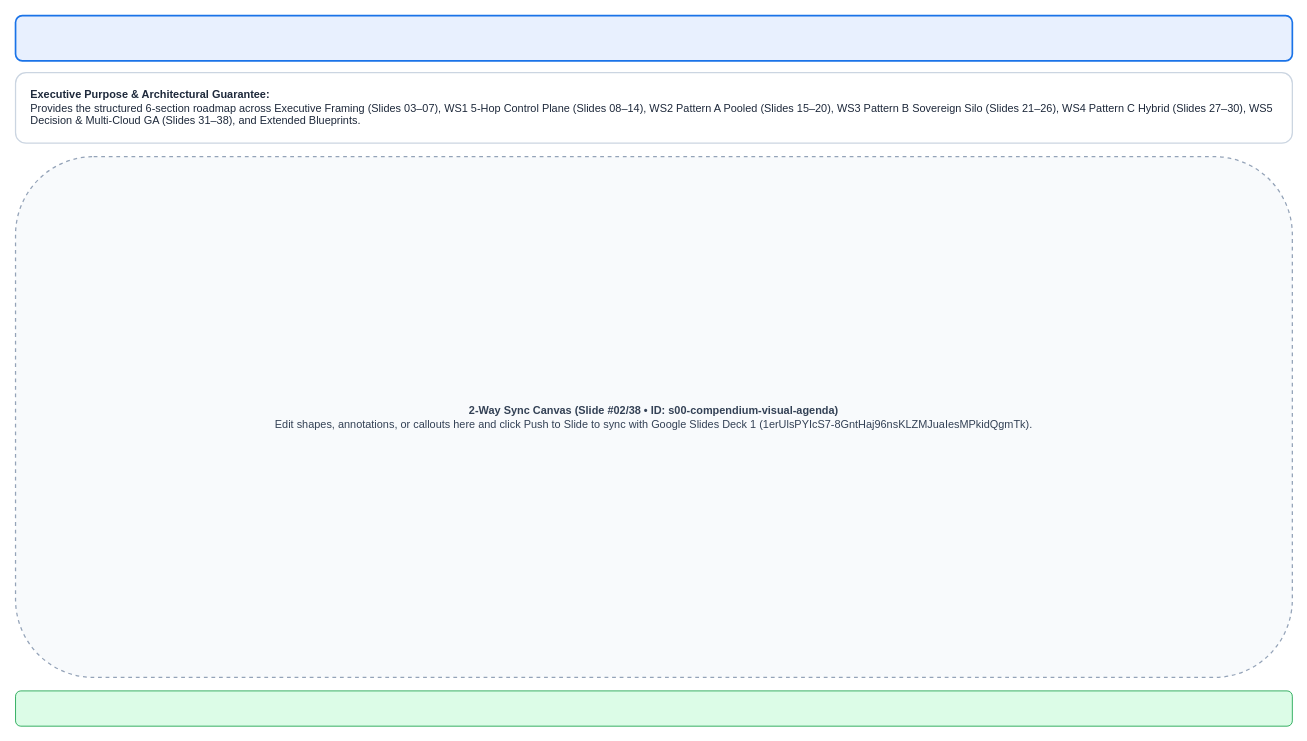
This 1307x741 diagram has some shape labels left out. The centre of each missing label's shape, as x and y in pixels:
Slide 02 • Consolidated Architecture & Verified Architecture Agenda: the point at 653,37
Verified Multi-Tenant Architecture Blueprint • 2-Way Sync Active: the point at 653,708
